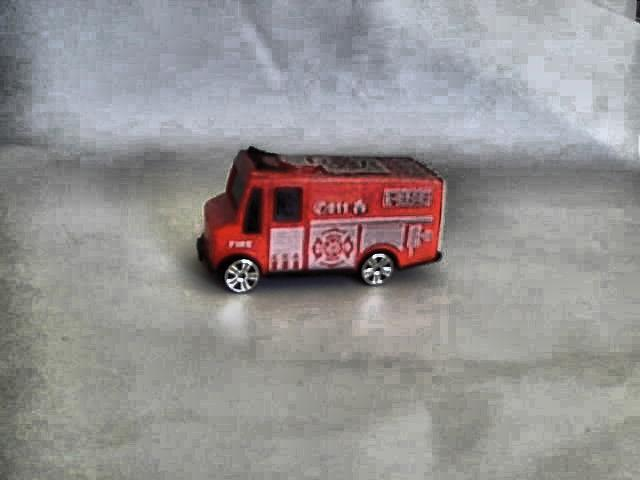fire_truck: (196, 147, 455, 293)
